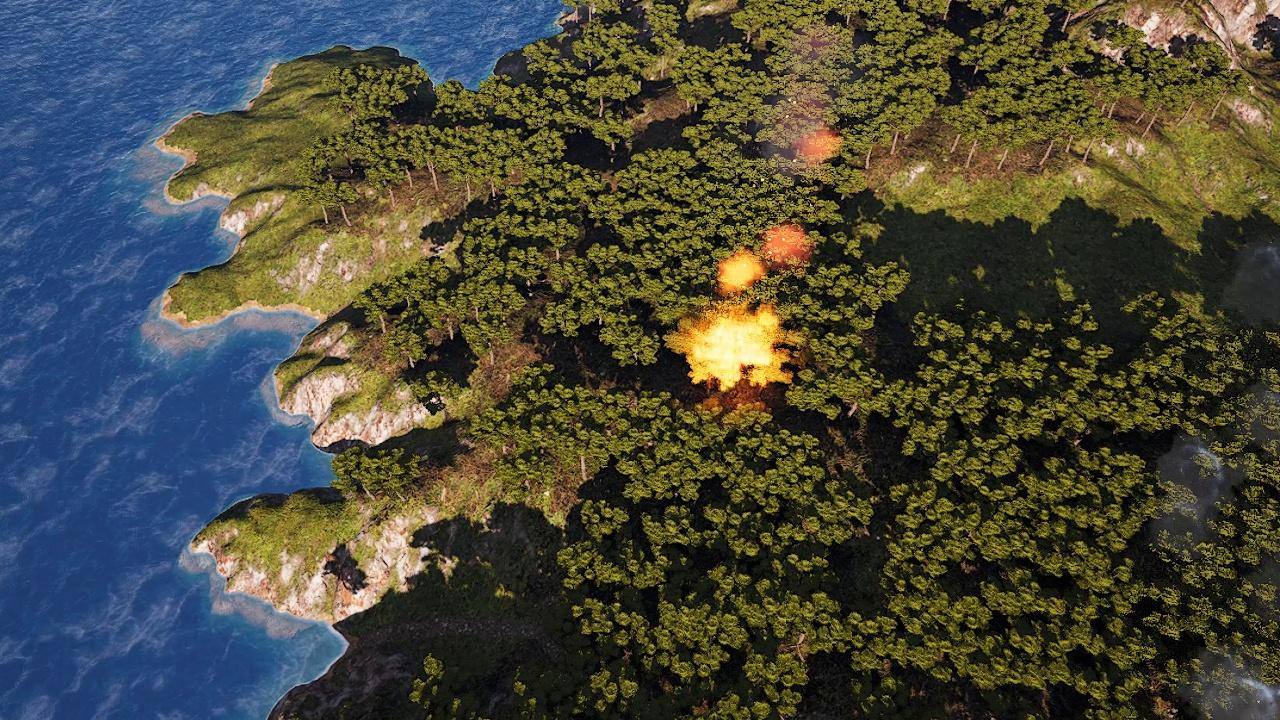fire: (683, 310, 785, 392), (717, 257, 763, 293)
smoke: (765, 12, 839, 175), (1142, 434, 1239, 548), (1180, 649, 1279, 720), (767, 214, 810, 275)
